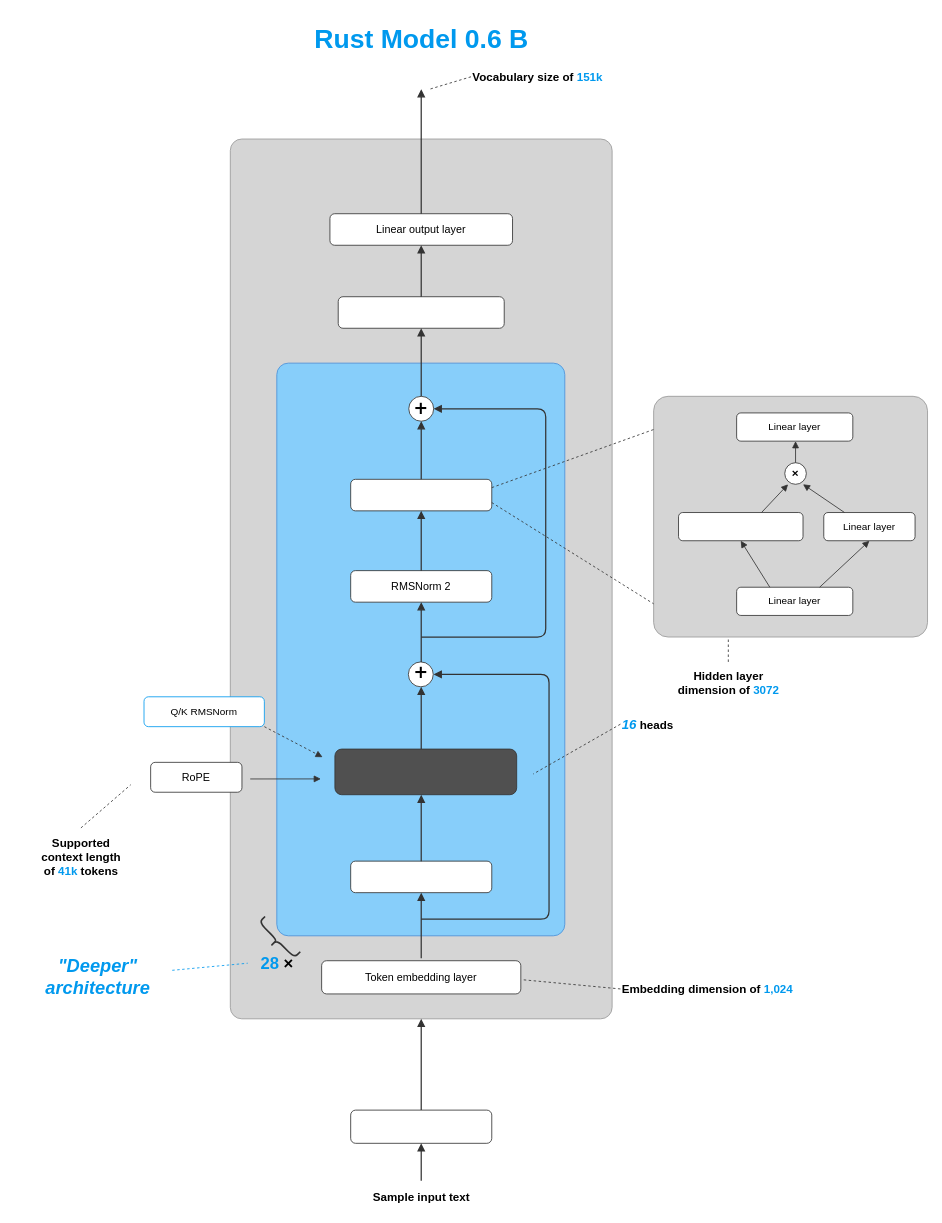
This 942x1223 diagram has some shape labels left out. Here are the shapes that lost their labels. From the top down, the box of each, then its label:
(337, 296, 504, 328): Final RMSNorm
(350, 478, 492, 511): Feed forward
(678, 512, 803, 541): SiLU activation
(334, 748, 517, 795): Masked grouped-query attention
(350, 860, 492, 893): RMSNorm 1
(350, 1109, 492, 1143): Tokenized text
